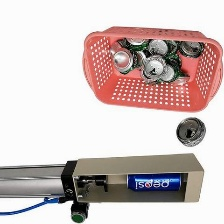can: (121, 166, 187, 195), (165, 116, 210, 150), (120, 29, 152, 55), (145, 34, 179, 58), (177, 36, 207, 63), (141, 52, 169, 79), (111, 48, 136, 76), (164, 71, 190, 85)
